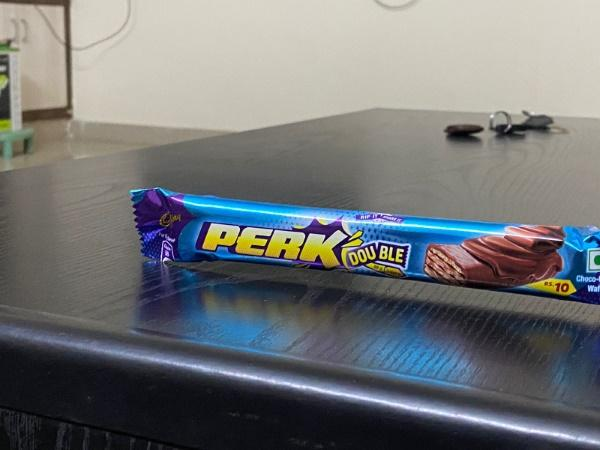Perk: (138, 175, 600, 320)
